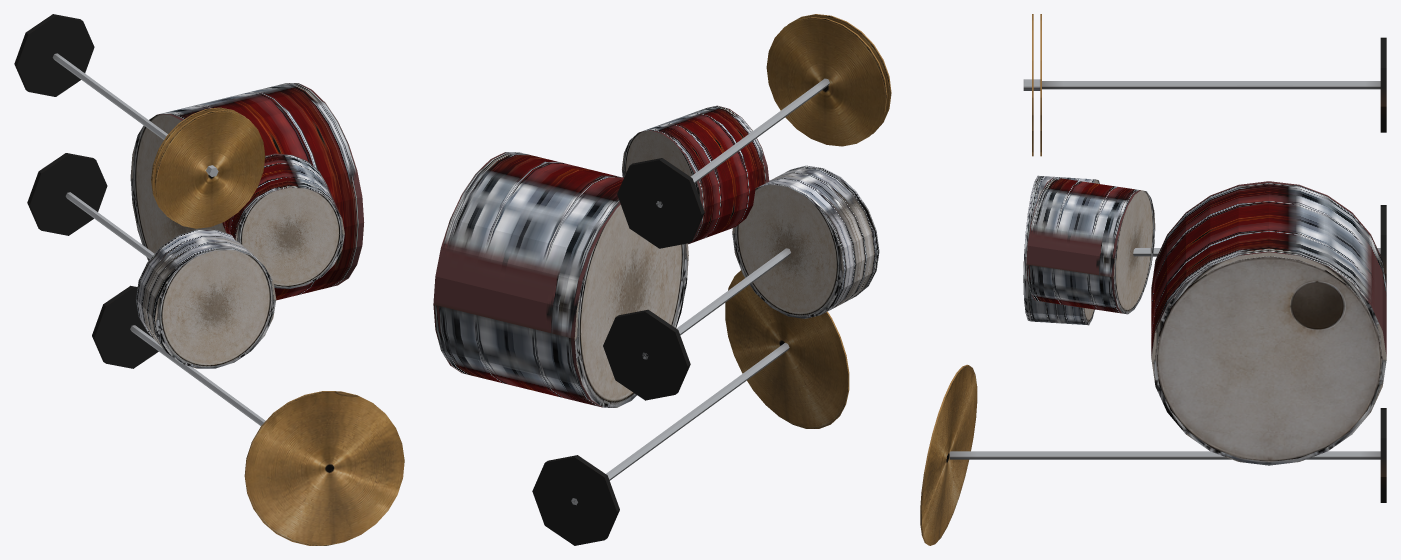
The model's file is Instrument_DrumKit.glb.
The picture shows the model from 3 angles, left to right: view 1: azimuth 30°, elevation 25°; view 2: azimuth 150°, elevation 25°; view 3: azimuth 270°, elevation 25°; orthographic projection. The views are drawn at different scales.
Parts seen in each view (by area): view 1: model_Instrument_DrumKit; view 2: model_Instrument_DrumKit; view 3: model_Instrument_DrumKit.
Boxes of the visible parts, x1,y1,x2,y2 form: model_Instrument_DrumKit: (14,14,404,545); model_Instrument_DrumKit: (433,14,891,545); model_Instrument_DrumKit: (920,14,1386,545).
Size of the model in its own units: 0.811 by 1.25 by 1.11.
1 material, 1 textured.
